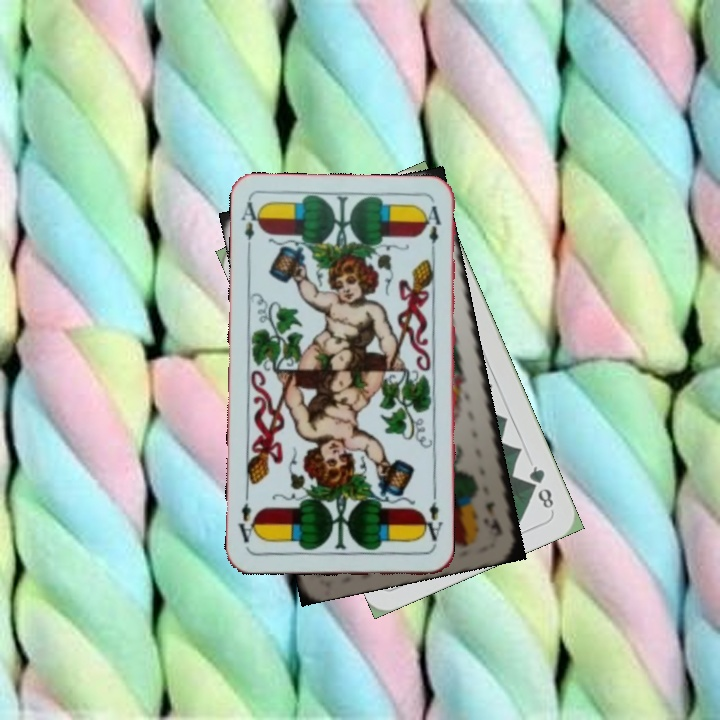EA: (418, 490, 446, 549), (237, 198, 264, 257)
EK: (481, 498, 505, 539)
G8: (525, 461, 557, 512)
